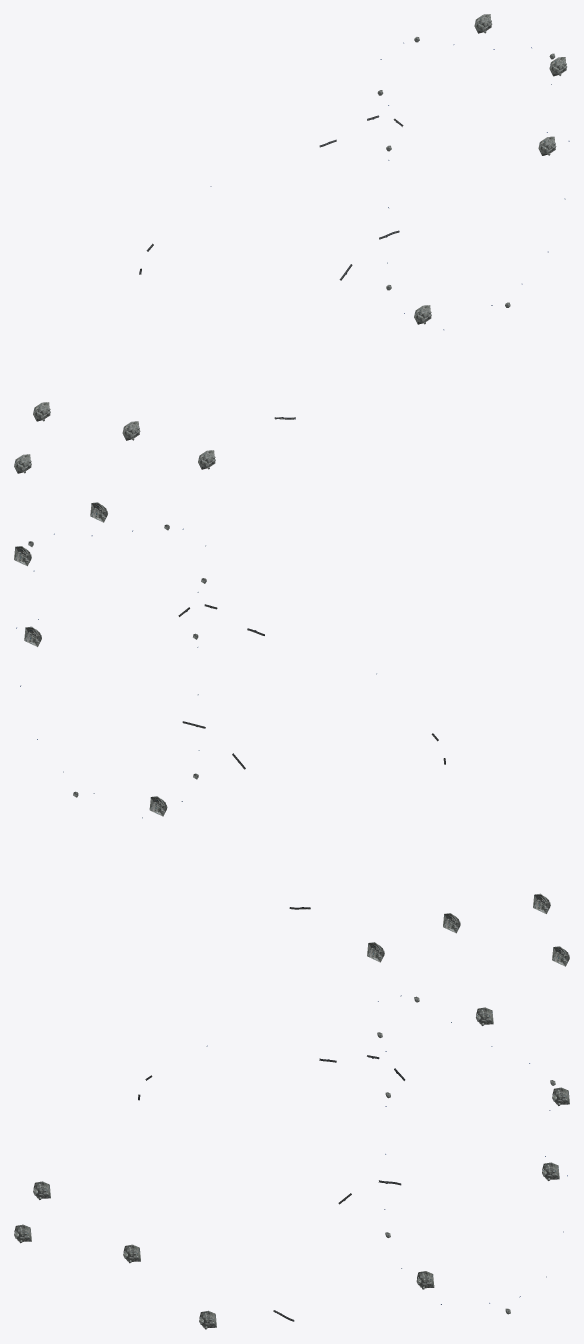
The model's file is maps_overview__part_05.obj.
3 views of the same model, one above another, from view 1: azimuth 30°, elevation 25°; view 2: azimuth 150°, elevation 25°; view 3: azimuth 330°, elevation 25° (orthographic).
Parts seen in each view (by area): view 1: maps_overview__part_05; view 2: maps_overview__part_05; view 3: maps_overview__part_05.
Part boxes in pixels (<box>): maps_overview__part_05: <box>14,14,569,473</box>; maps_overview__part_05: <box>14,502,569,966</box>; maps_overview__part_05: <box>14,995,569,1329</box>.
Bounding box in the file's own units: 3230 × 2164 × 51.93.
Materials: 95 (95 with a texture image).
